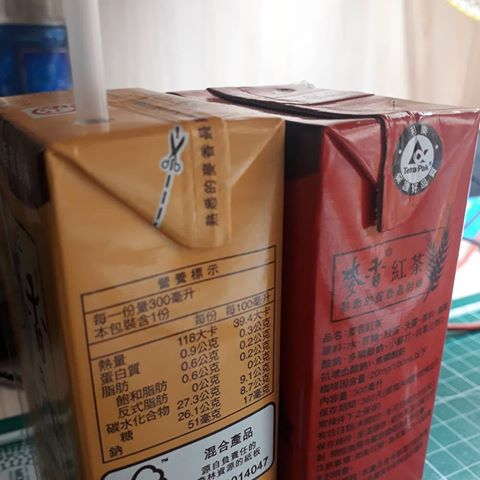milk tea: (1, 96, 278, 479)
